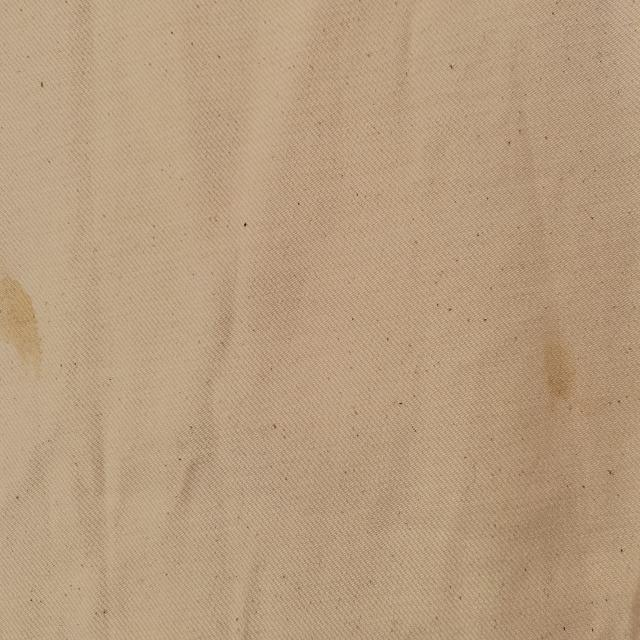taaaches: (0, 251, 43, 376), (537, 309, 578, 412)
